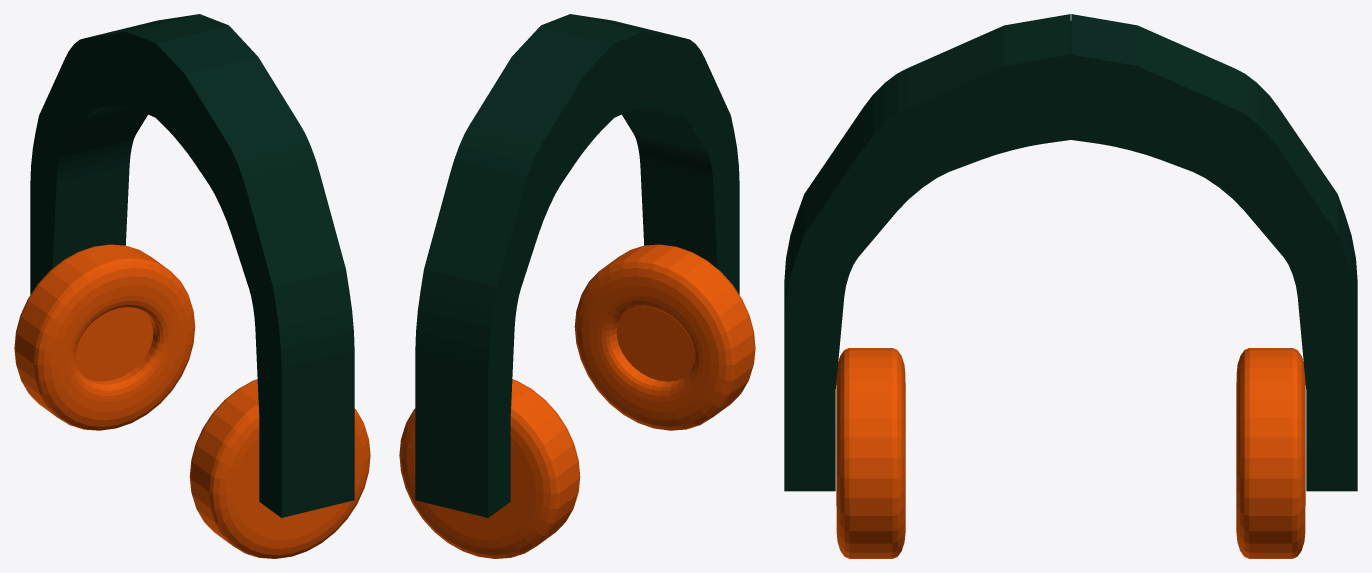
File: headphones.fbx
The picture shows the model from 3 angles, left to right: view 1: azimuth 30°, elevation 25°; view 2: azimuth 150°, elevation 25°; view 3: azimuth 270°, elevation 25°; orthographic projection. The views are drawn at different scales.
Parts seen in each view (by area): view 1: Cube.005; view 2: Cube.005; view 3: Cube.005.
Part boxes in pixels (x1=…): Cube.005: x1=14, y1=14, x2=370, y2=558; Cube.005: x1=399, y1=14, x2=755, y2=558; Cube.005: x1=784, y1=14, x2=1357, y2=558.
Size of the model in its own units: 11.22 by 30.17 by 30.43.
